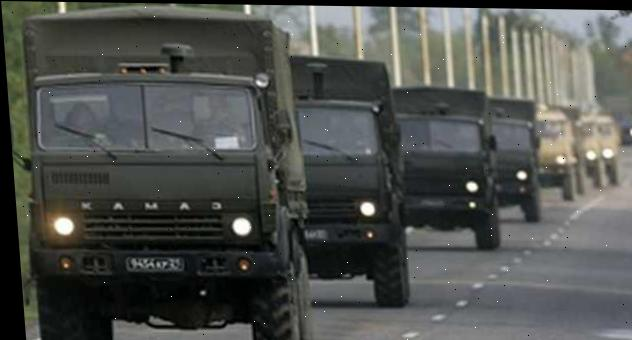truck: (6, 4, 321, 340), (279, 36, 419, 316), (385, 78, 508, 259), (488, 88, 552, 238), (534, 98, 583, 214), (575, 111, 605, 200)
